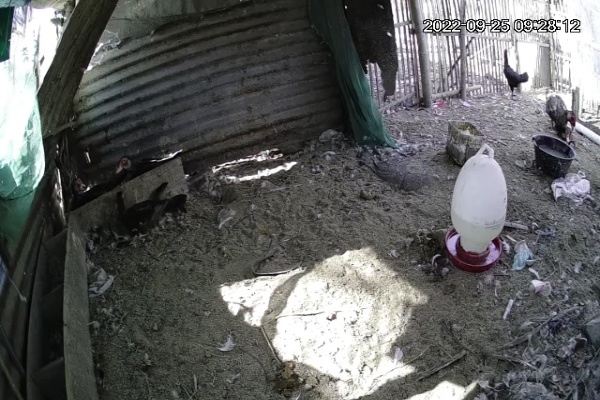Kawin: (541, 86, 582, 154)
